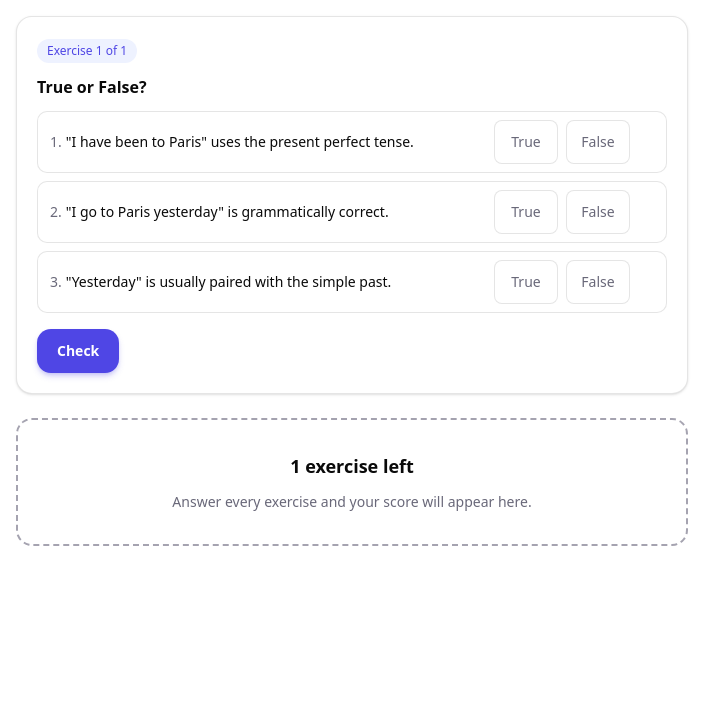
Test case: LessonPlayer — practice renderer smoke tests › selection_grid: numbers rows 1, 2, 3 and shows each wrong row's own explanation
Click the button "Check" at (78, 351), box top-left (37, 329), bottom-right (119, 373)
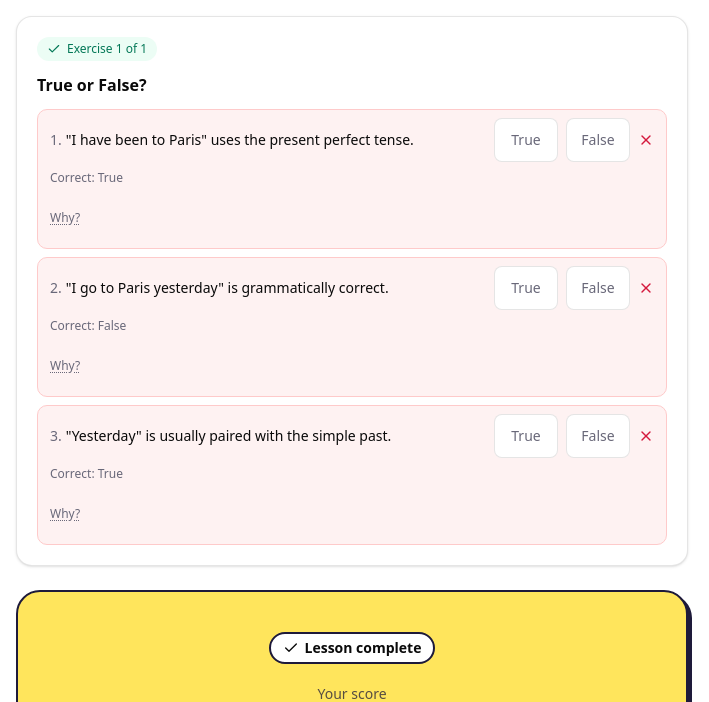
expect the text "1." is shown: met, box top-left (50, 130), bottom-right (62, 149)
expect the number of buttons "Why?" is 3: met
Click the 2nd button "Why?" at (65, 366), box top-left (42, 344), bottom-right (88, 388)
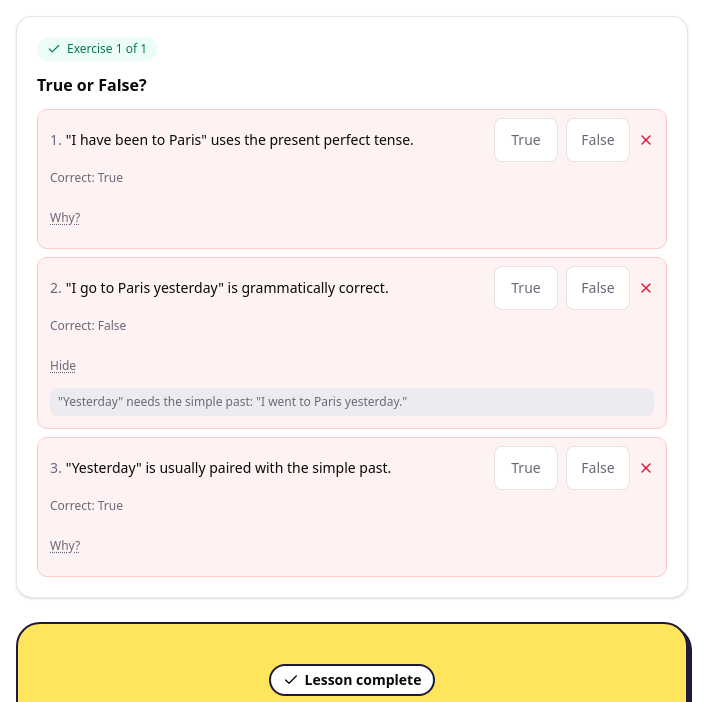
expect the text "needs the simple past" is shown: met, box top-left (58, 393), bottom-right (407, 410)
